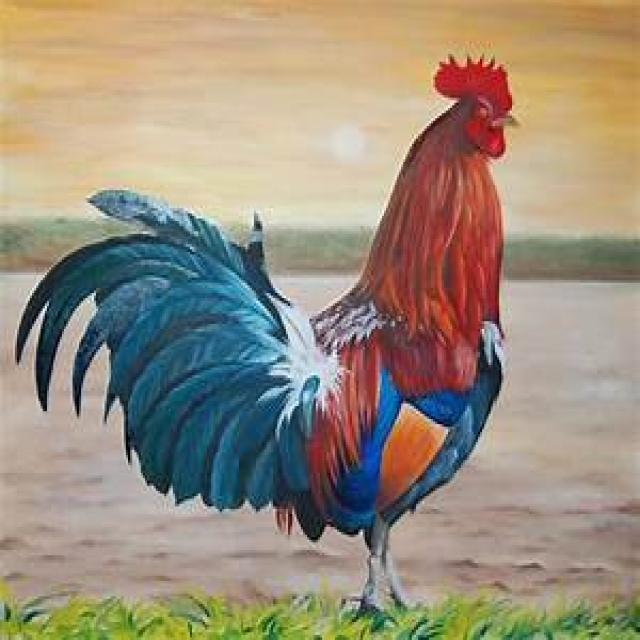hen: (26, 57, 518, 609)
